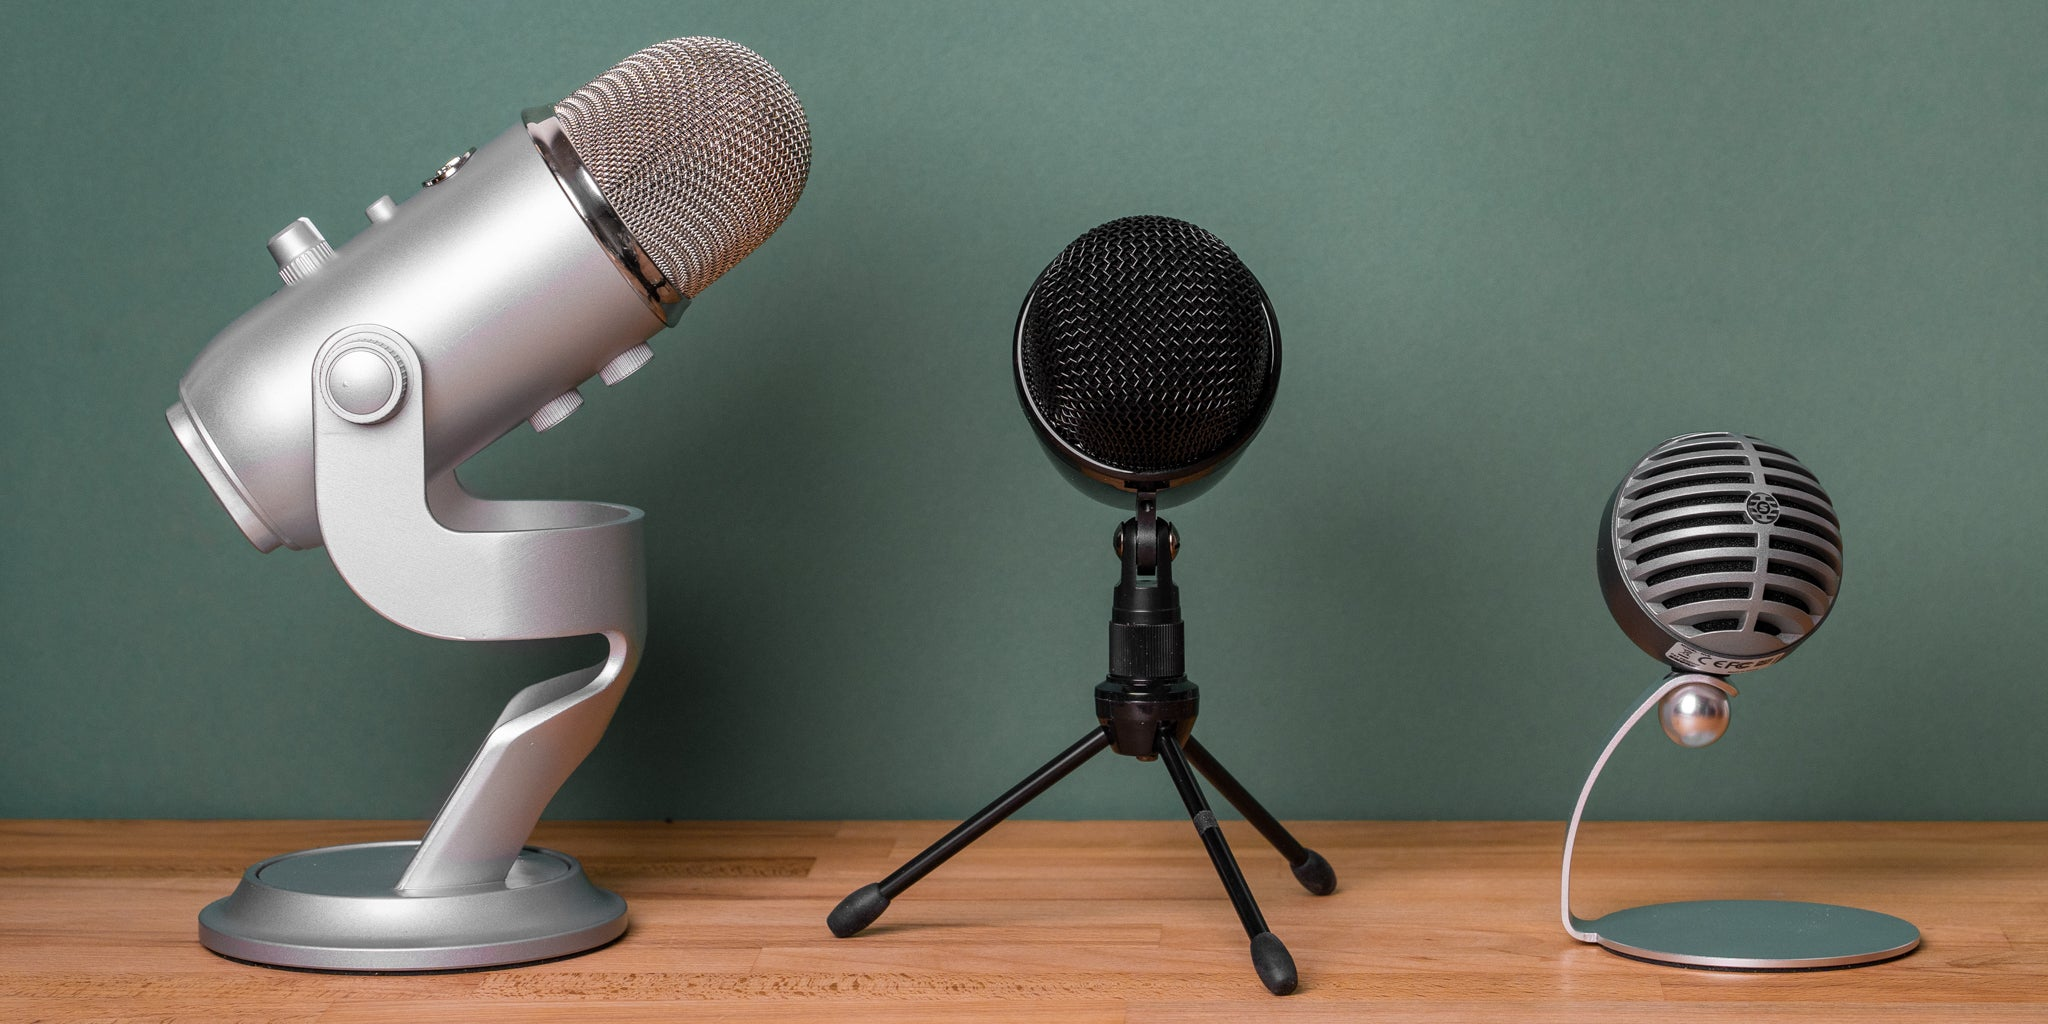microphone: (159, 27, 815, 981), (824, 212, 1344, 1000), (1556, 426, 1932, 980)
